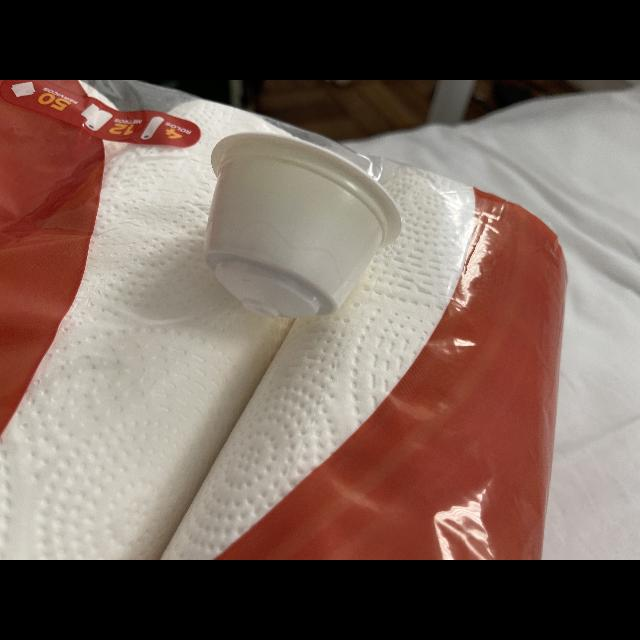intact_capsule: (192, 125, 412, 329)
